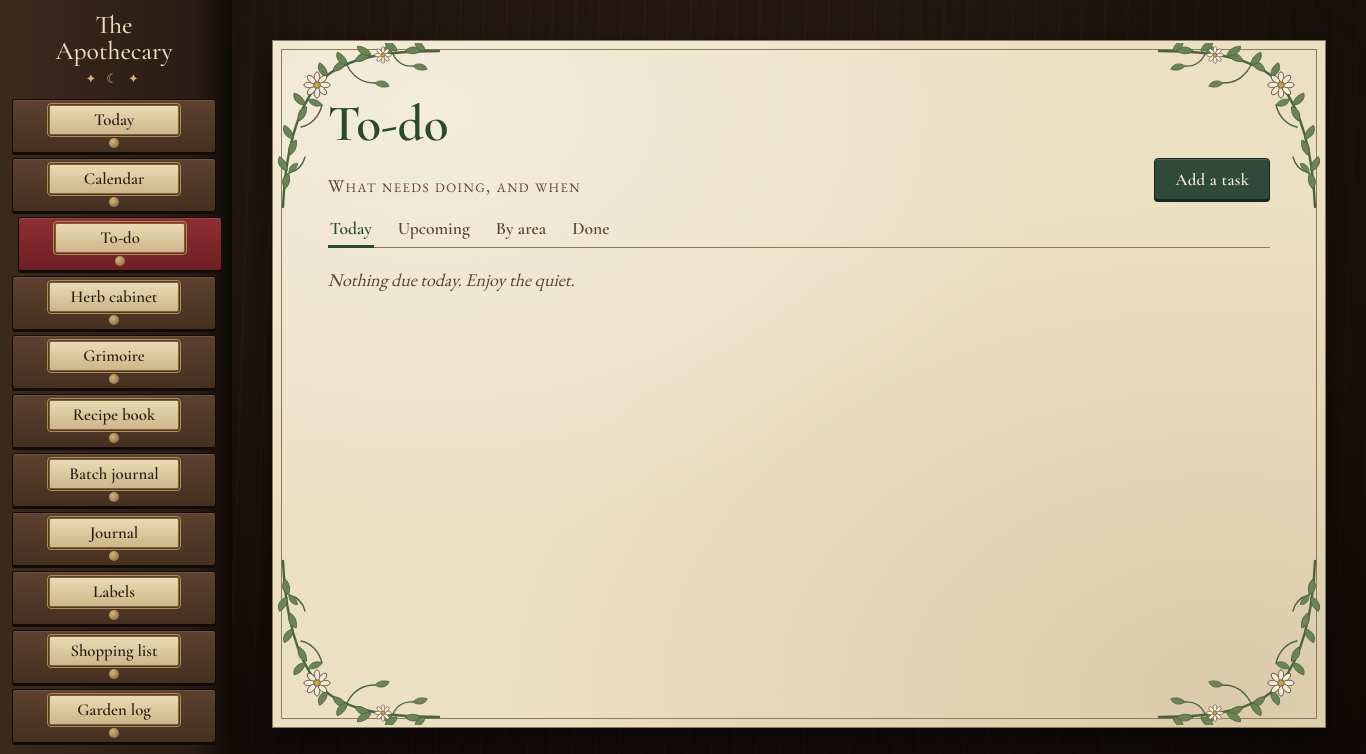
Test: shows the empty states
expect the text "Nothing due today. Enjoy the quiet." is shown: met, box [328, 268, 575, 291]
Click the link "Upcoming" at (434, 229), box [398, 218, 470, 239]
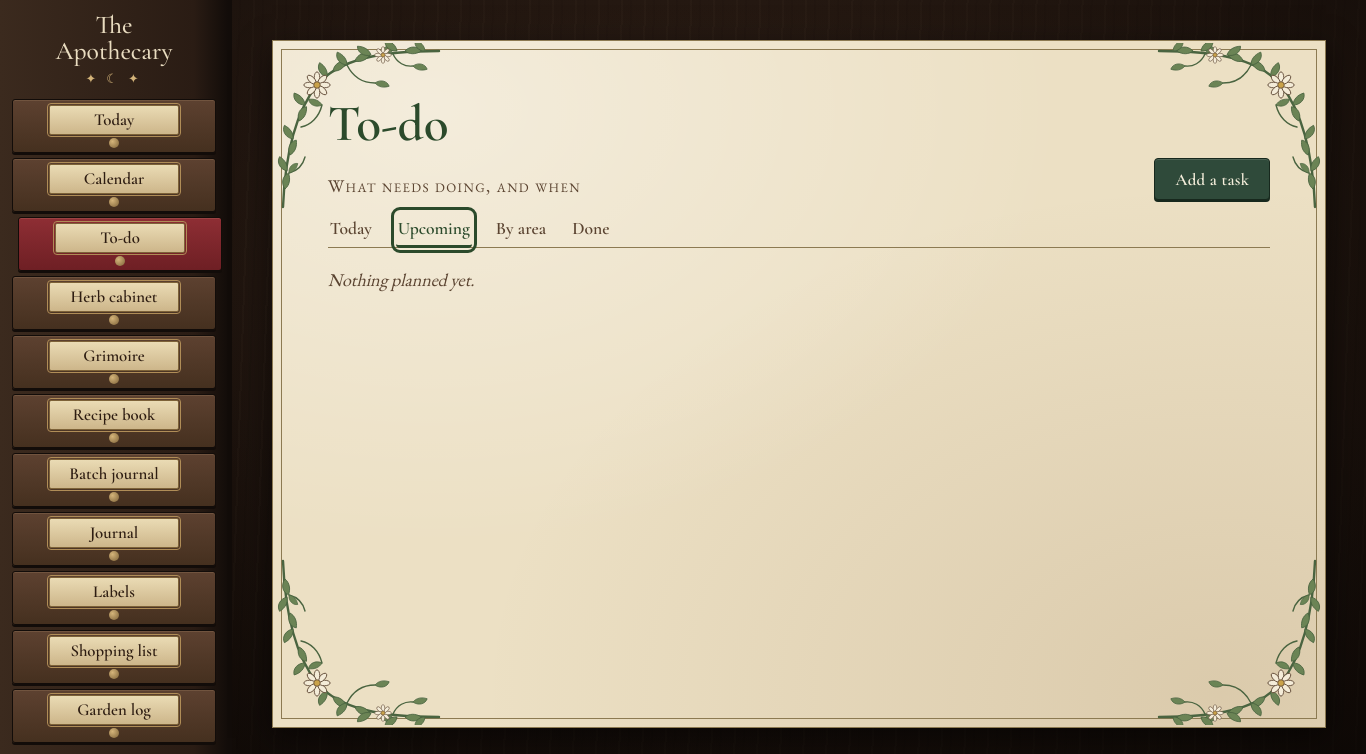
expect the text "Nothing planned yet." is shown: met, box [328, 268, 474, 291]
Click the link "Done" at (591, 229), box [572, 218, 610, 239]
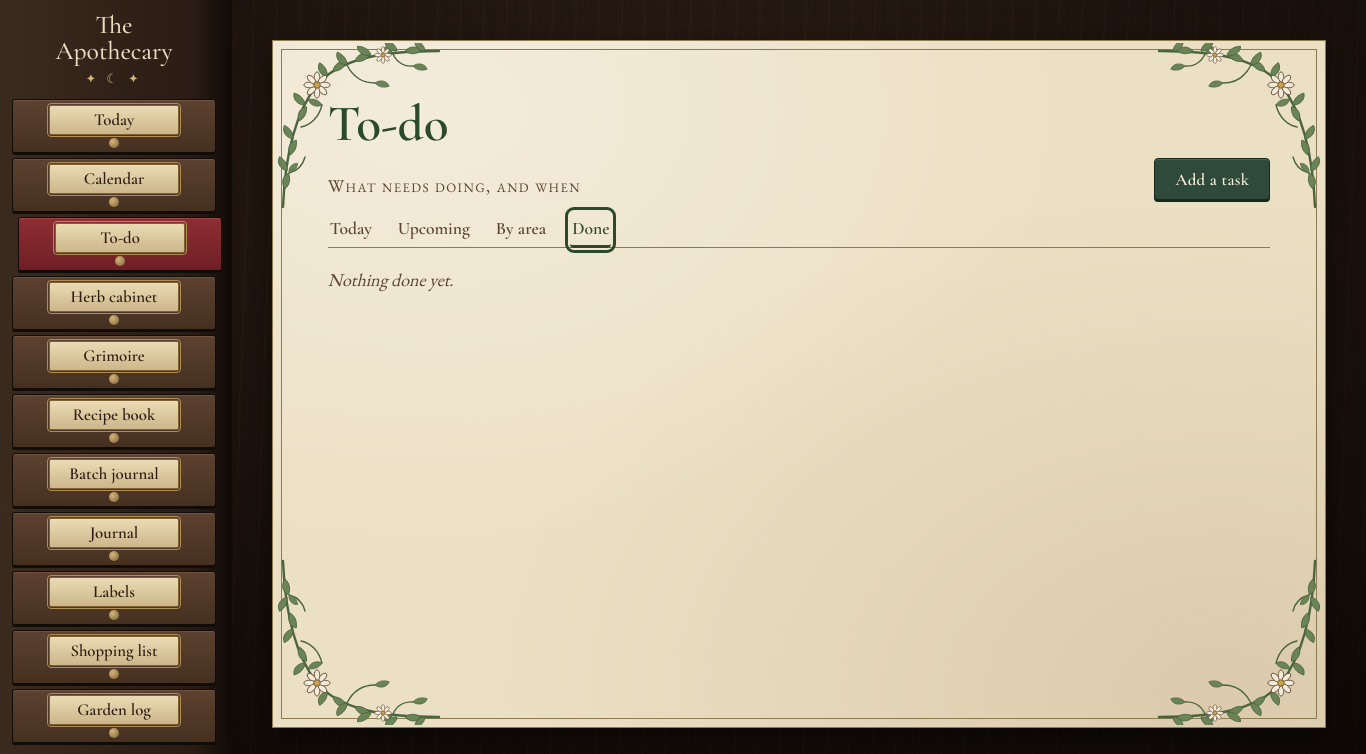
expect the text "Nothing done yet." is shown: met, box [328, 268, 453, 291]
